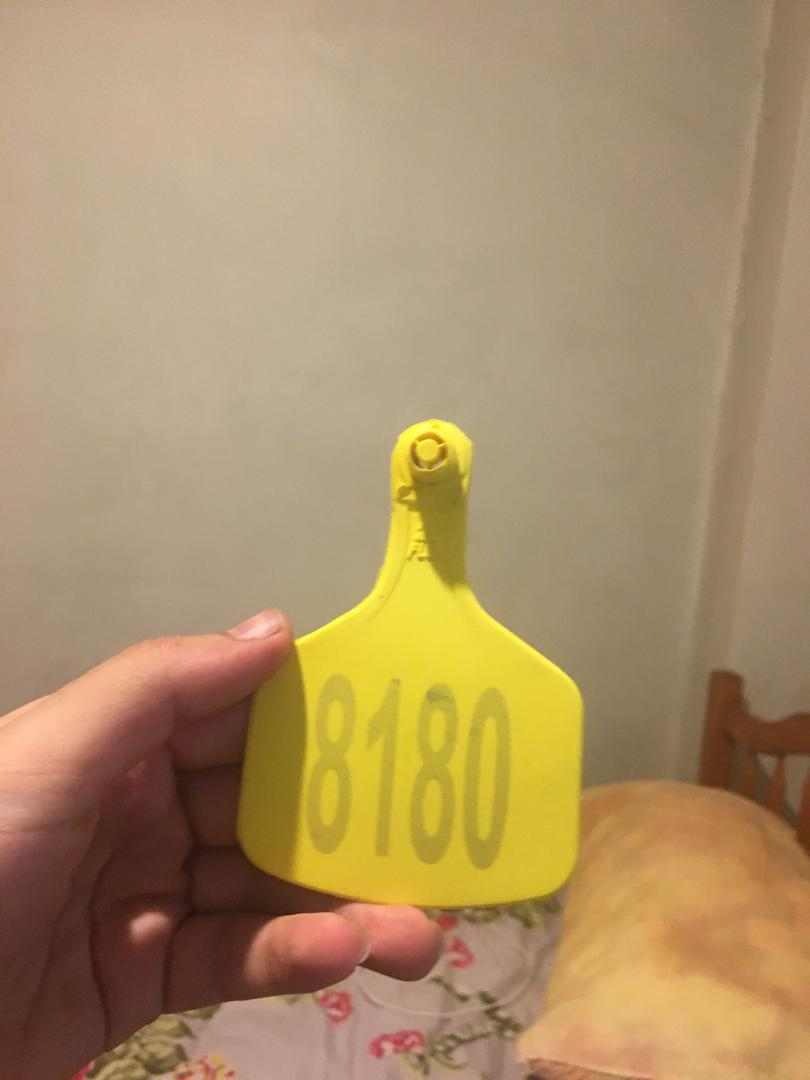digit: (303, 671, 515, 875)
